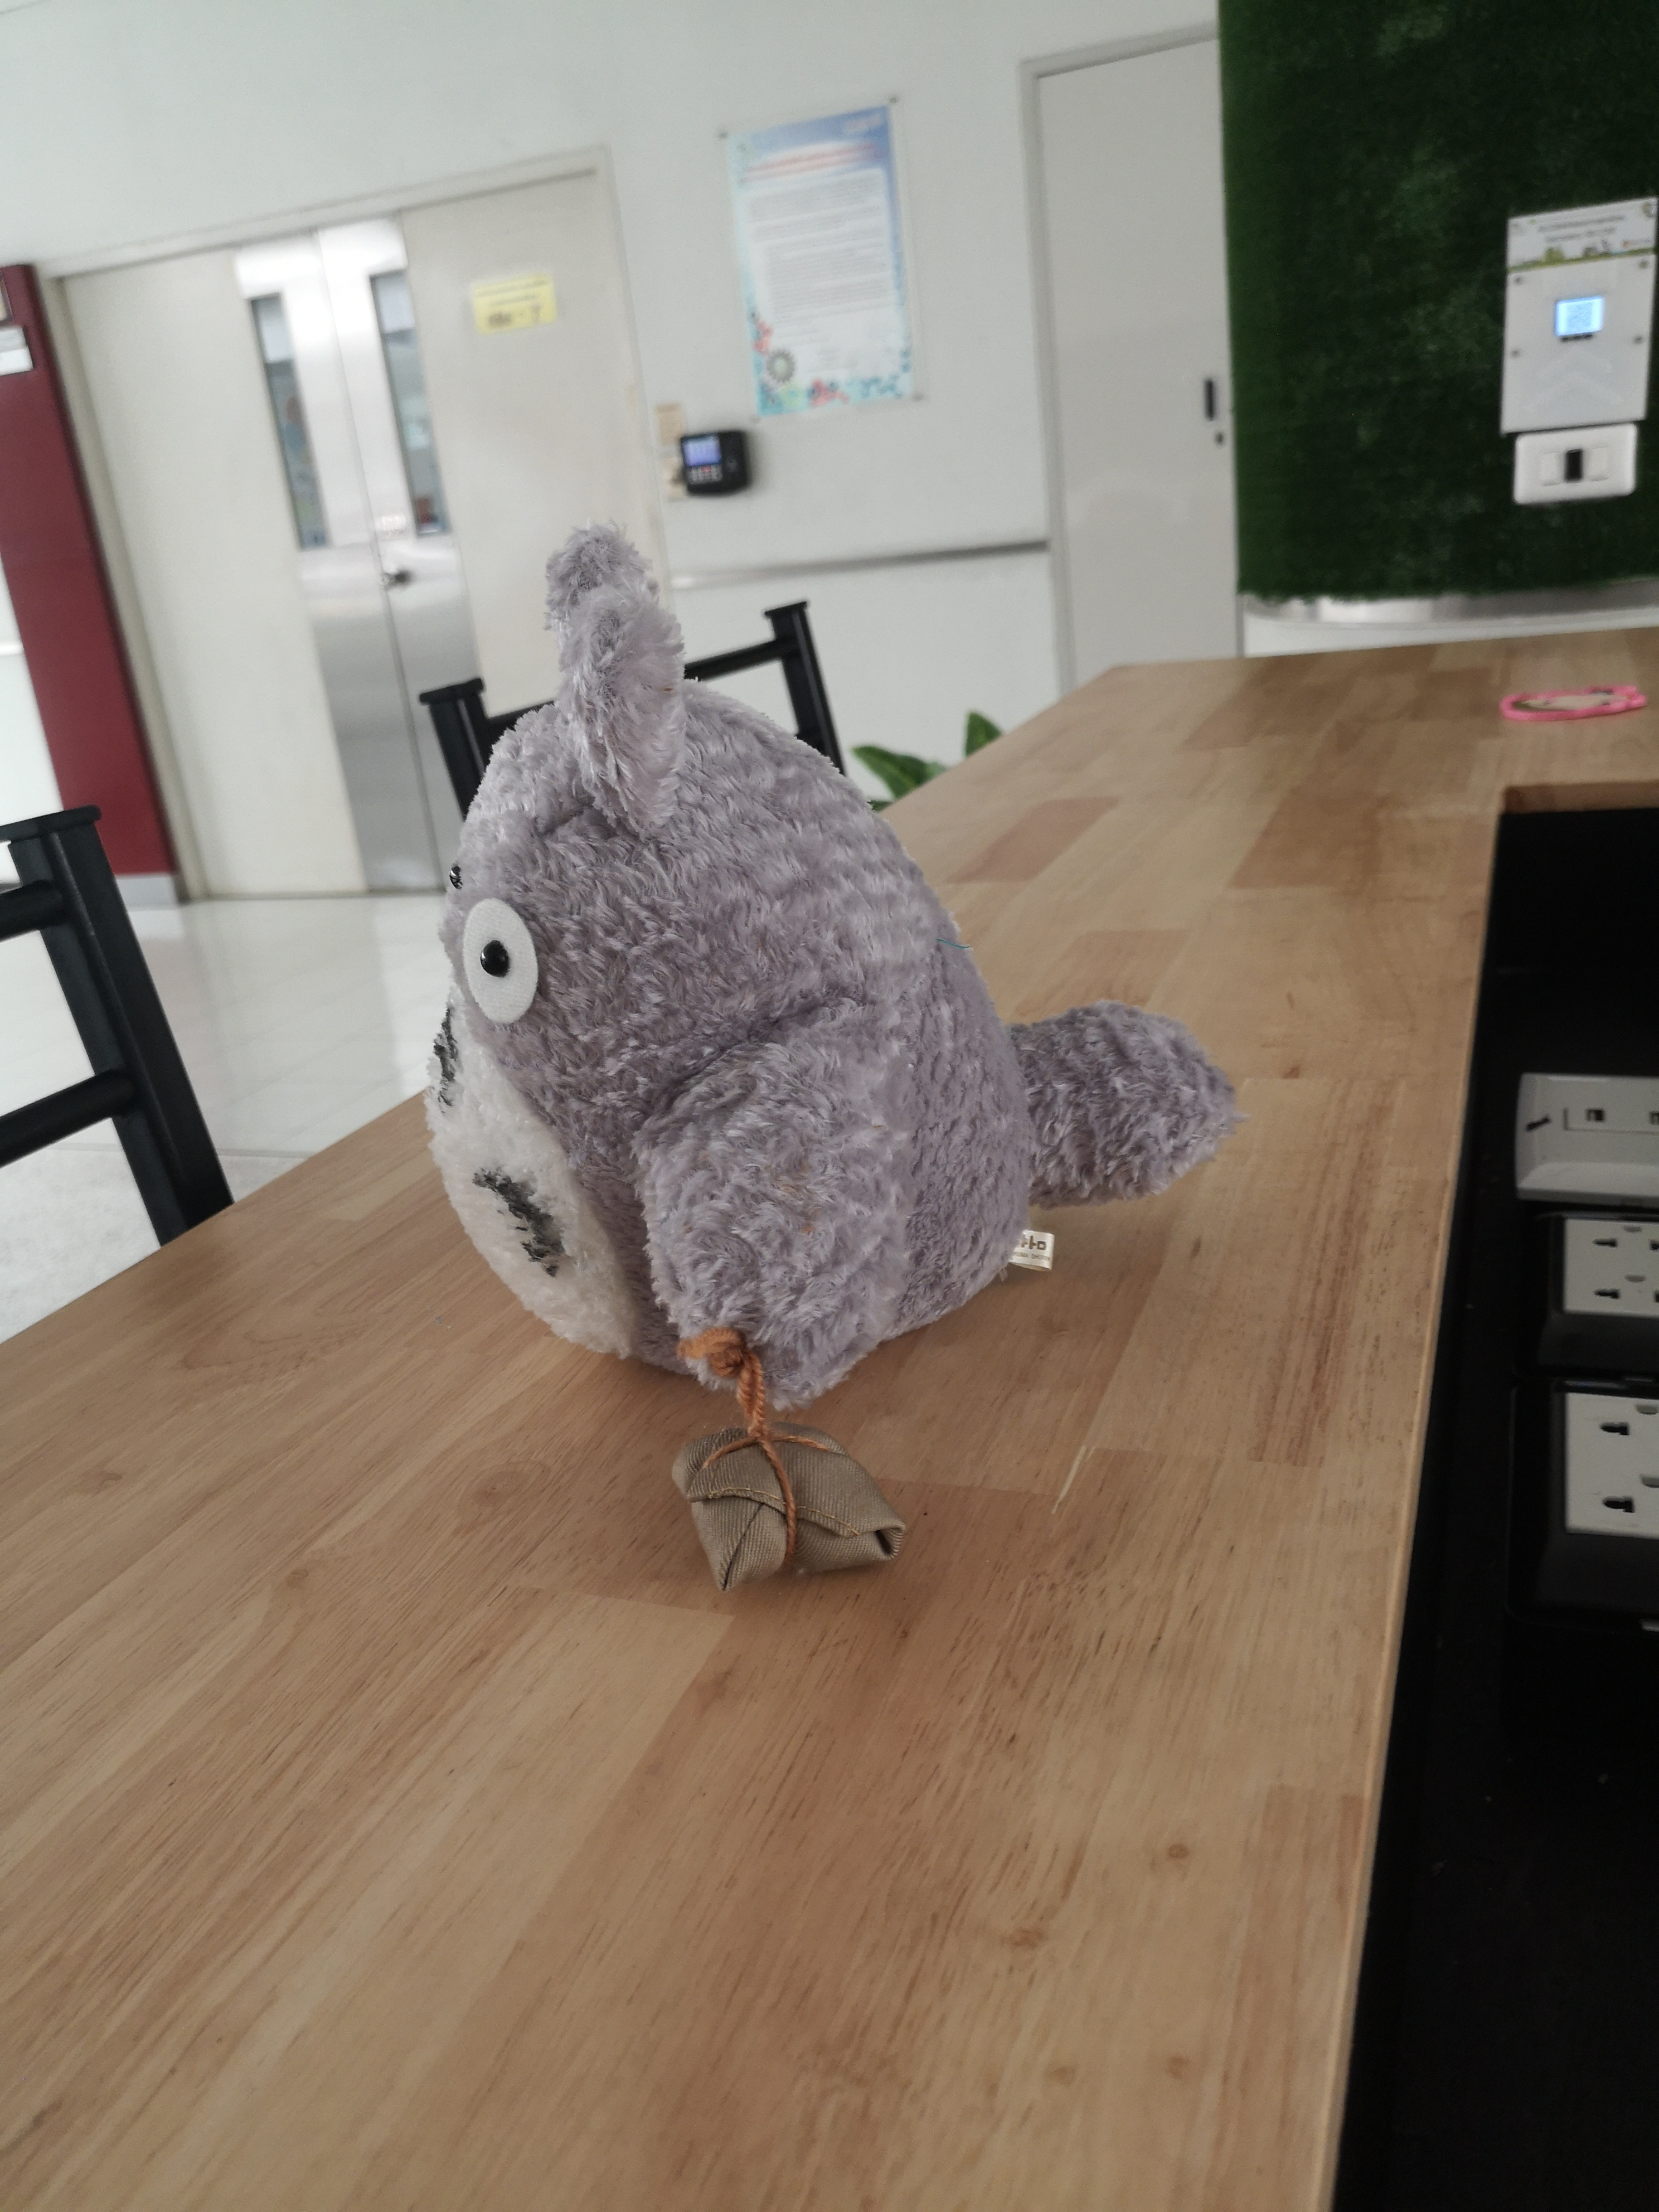totoro: (416, 521, 1244, 1604)
